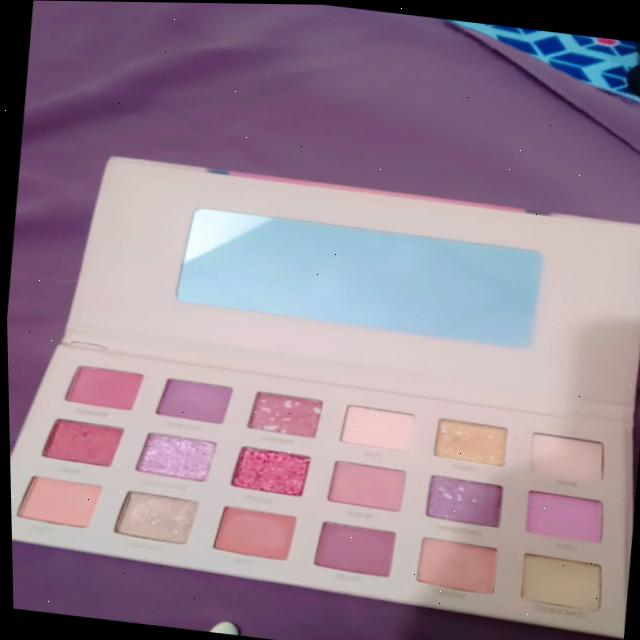eye shade: (201, 496, 302, 563), (121, 425, 229, 487), (505, 546, 607, 610), (29, 409, 132, 472), (314, 453, 414, 516), (101, 485, 201, 548), (406, 529, 500, 595), (8, 466, 100, 532), (516, 423, 610, 487), (325, 394, 419, 458), (518, 481, 612, 544), (48, 357, 150, 415), (308, 516, 403, 578), (219, 441, 317, 500), (143, 367, 235, 428), (422, 411, 523, 465), (233, 383, 325, 441), (424, 468, 502, 532)
